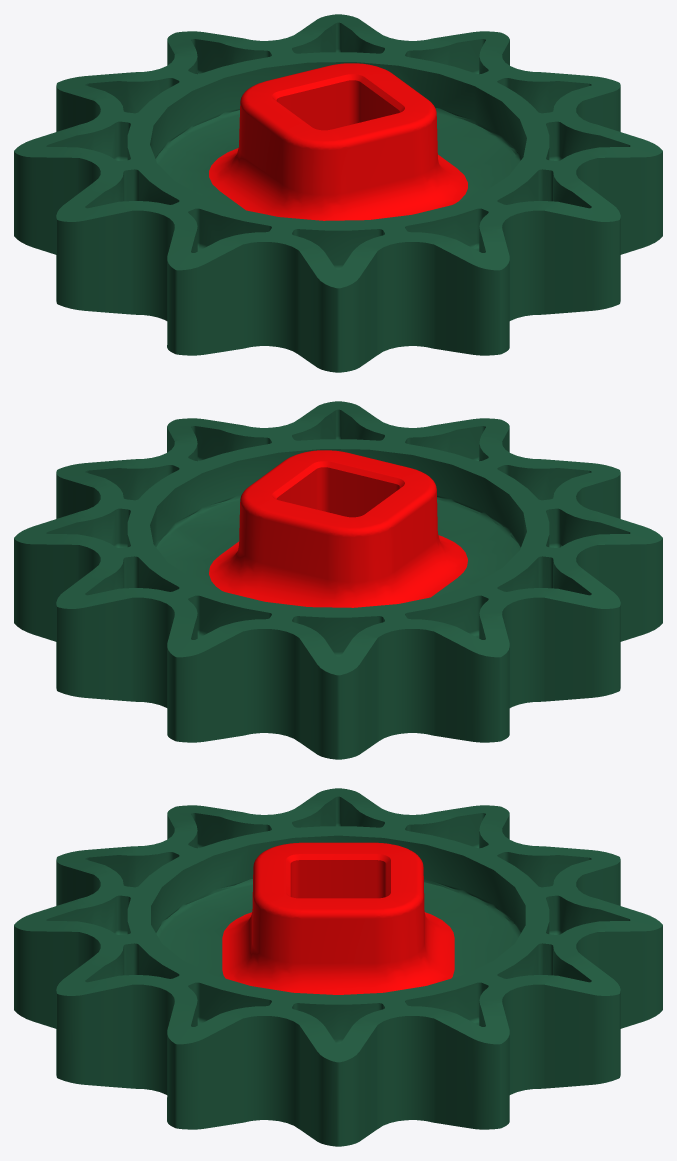
The model's file is 12t-high-strength-sprocket-hs-bore.glb.
3 views of the same model, one above another, from view 1: azimuth 30°, elevation 25°; view 2: azimuth 150°, elevation 25°; view 3: azimuth 270°, elevation 25° (orthographic).
Parts seen in each view (by area): view 1: 276-2252-004 Rev2; view 2: 276-2252-004 Rev2; view 3: 276-2252-004 Rev2.
Part boxes in pixels (bbox=[...]): 276-2252-004 Rev2: bbox=[14, 14, 662, 372]; 276-2252-004 Rev2: bbox=[14, 401, 662, 759]; 276-2252-004 Rev2: bbox=[14, 788, 662, 1146].
Bounding box in the file's own units: 0.043 × 0.0133 × 0.043.
